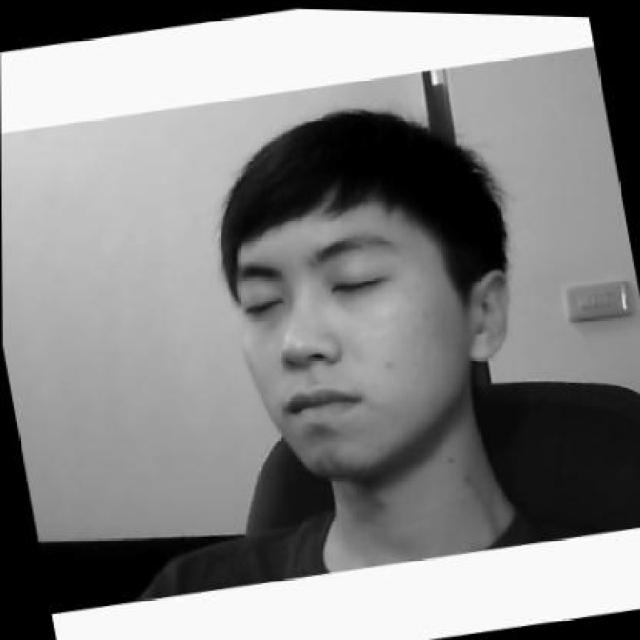inattentif: (198, 80, 537, 495)
